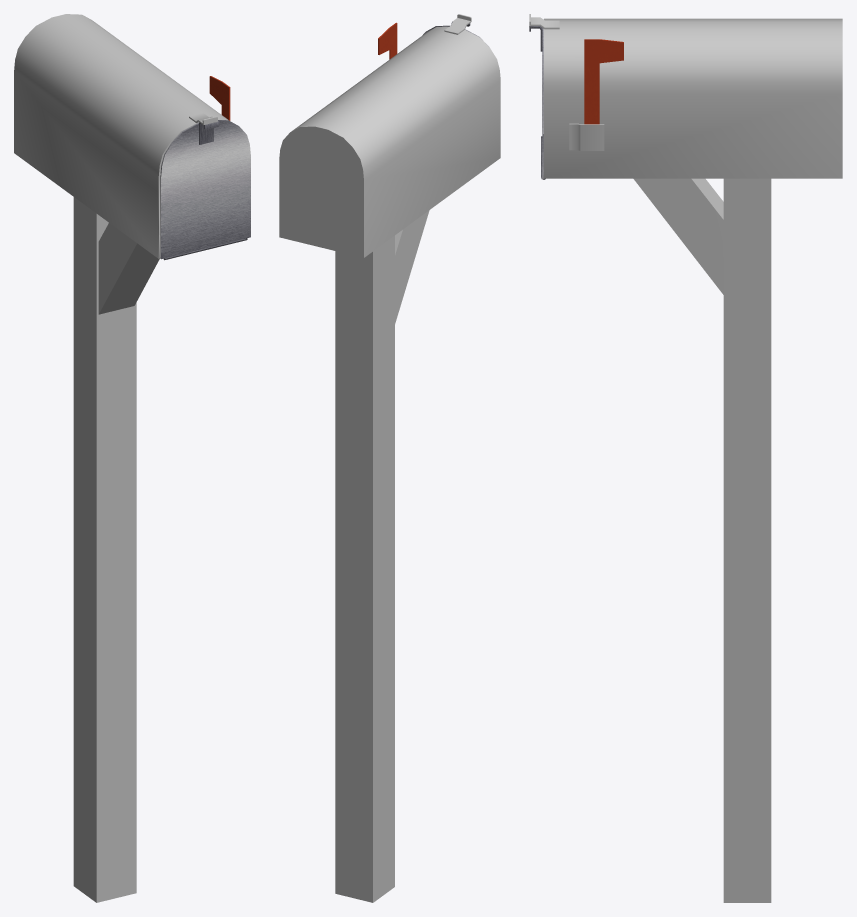
Rendered from Mailbox.obj.
The picture shows the model from 3 angles, left to right: view 1: azimuth 30°, elevation 25°; view 2: azimuth 150°, elevation 25°; view 3: azimuth 270°, elevation 25°; orthographic projection. The views are drawn at different scales.
Visible parts, largest first — view 1: Mailbox, MailboxFlap, MailboxFlag; view 2: Mailbox, MailboxFlag; view 3: Mailbox, MailboxFlag.
Boxes of the visible parts, box(x1,y1,x2,y2) form: Mailbox: box(14, 14, 229, 902); MailboxFlap: box(160, 120, 250, 260); MailboxFlag: box(209, 76, 230, 120); Mailbox: box(279, 14, 500, 902); MailboxFlag: box(378, 22, 397, 59); Mailbox: box(529, 14, 842, 902); MailboxFlag: box(584, 39, 623, 124).
Bounding box in the file's own units: 5.54 × 48.6 × 15.74.
